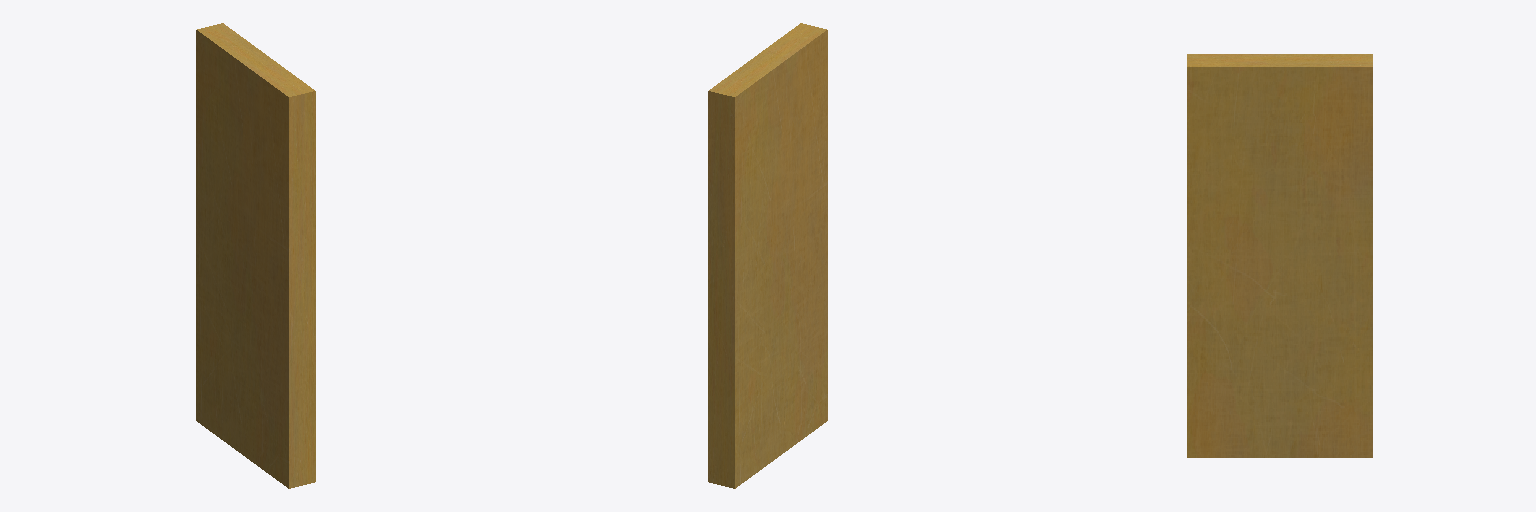
The picture shows the model from 3 angles: view 1: azimuth 30°, elevation 25°; view 2: azimuth 150°, elevation 25°; view 3: azimuth 270°, elevation 25°; orthographic projection.
Parts seen in each view (by area): view 1: 立方体.003; view 2: 立方体.003; view 3: 立方体.003.
Part boxes in pixels (bbox=[...]): 立方体.003: bbox=[196, 23, 315, 488]; 立方体.003: bbox=[708, 23, 827, 488]; 立方体.003: bbox=[1187, 54, 1372, 457].
Bounding box in the file's own units: 0.1 × 1.4 × 0.6.
Materials: 1 (1 with a texture image).